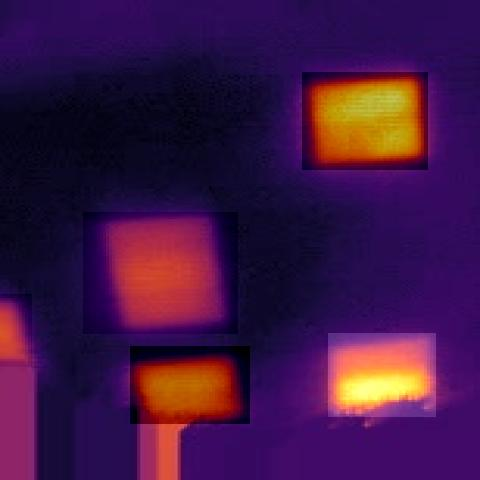fault: (83, 212, 238, 334), (302, 72, 428, 170), (130, 346, 250, 424), (328, 334, 436, 418), (0, 294, 32, 367)
